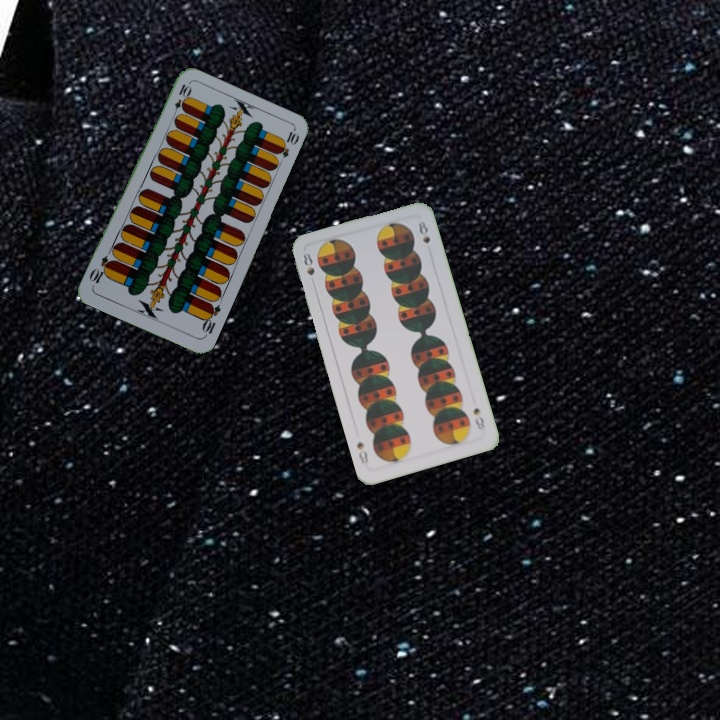E10: (198, 299, 223, 340), (169, 80, 192, 120)
S8: (299, 248, 317, 278), (469, 403, 487, 432)
